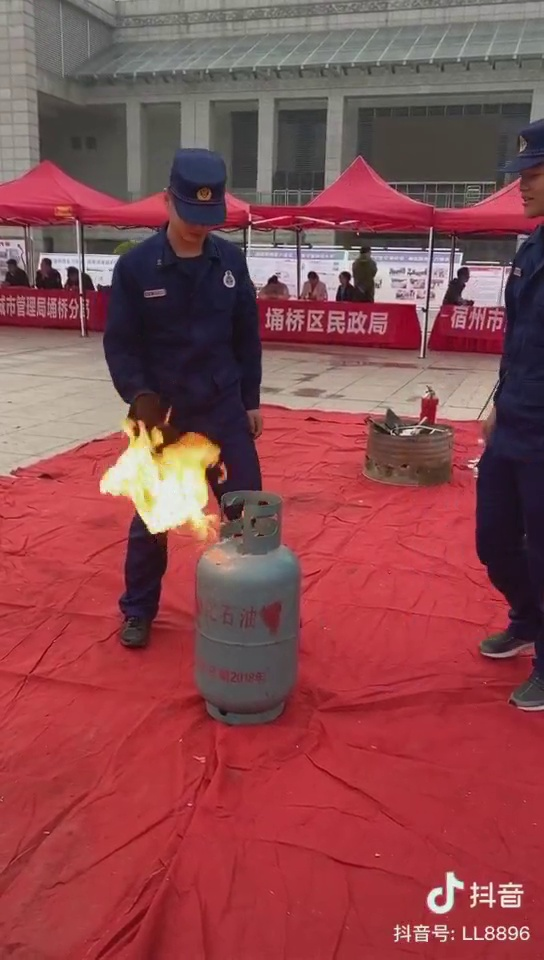fire: (90, 416, 213, 538)
